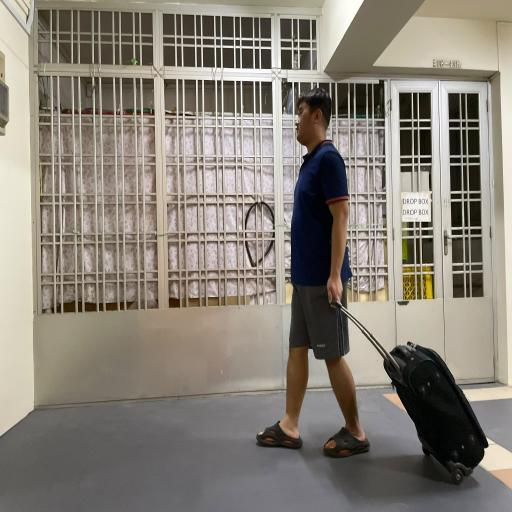person_left: (254, 85, 490, 495)
